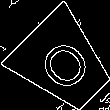O_SE: (30, 30, 96, 96)
